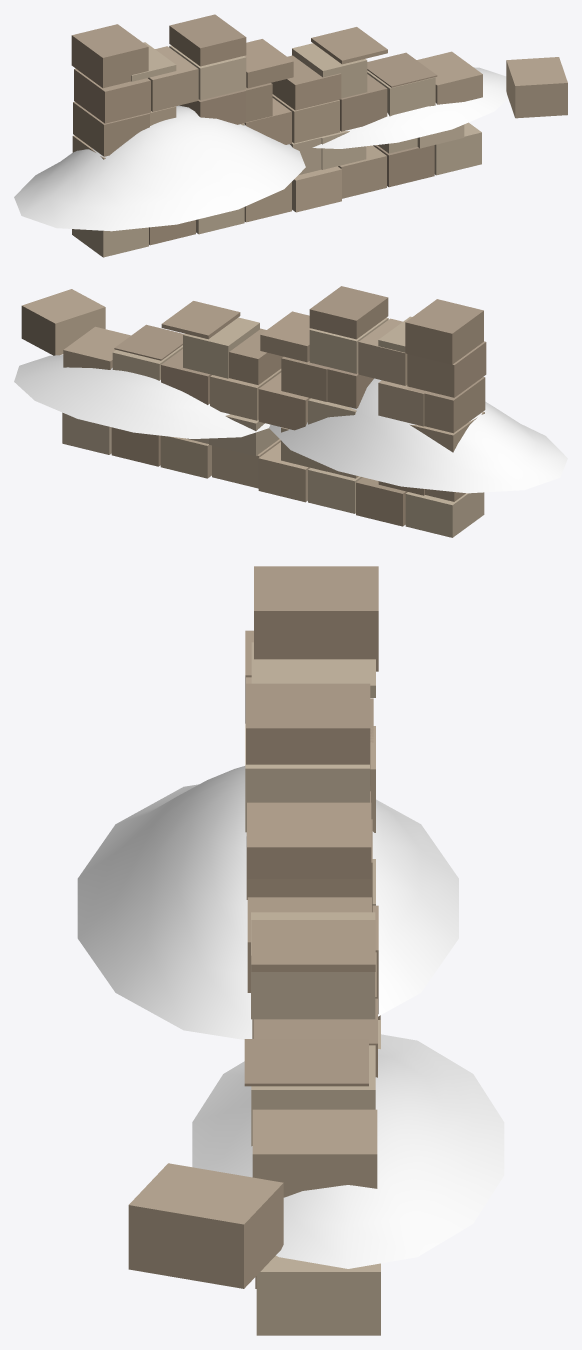
The model's file is ruinas_muro.glb.
3 views of the same model, one above another, from view 1: azimuth 30°, elevation 25°; view 2: azimuth 150°, elevation 25°; view 3: azimuth 270°, elevation 25° (orthographic). The views are drawn at different scales.
Visible parts, largest first — view 1: ruinas_muro, ruinas_muro_arena; view 2: ruinas_muro, ruinas_muro_arena; view 3: ruinas_muro, ruinas_muro_arena.
Part boxes in pixels (x1,y1,x2,y2): ruinas_muro: [71, 14, 567, 257]; ruinas_muro_arena: [14, 67, 508, 231]; ruinas_muro: [21, 286, 486, 537]; ruinas_muro_arena: [14, 355, 567, 493]; ruinas_muro: [128, 566, 380, 1335]; ruinas_muro_arena: [77, 766, 504, 1268].
Size of the model in its own units: 6.91 by 2.48 by 2.4.
